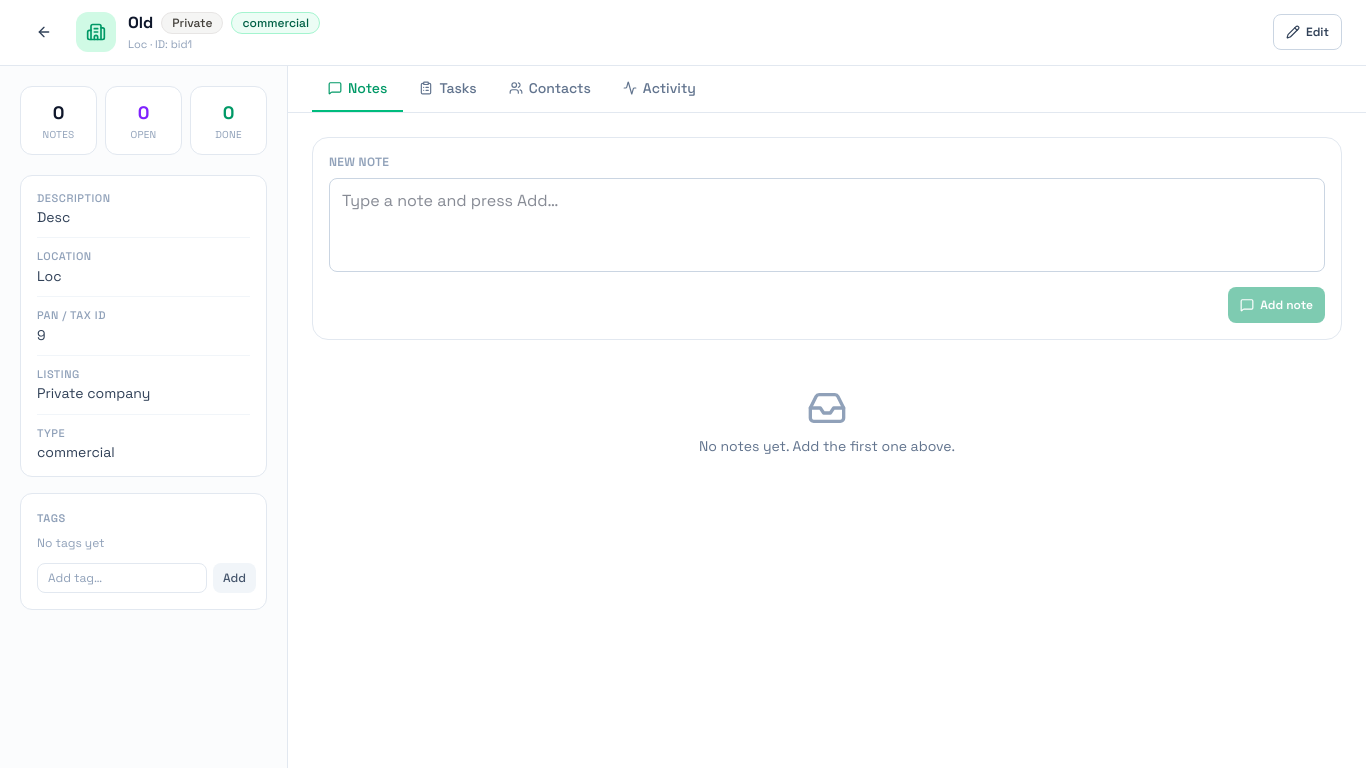
Test case: BusinessDetailPage › save profile sends trimmed profile patch and closes dialog
Click the button "Edit" at (1308,32), box [1273,14,1342,50]
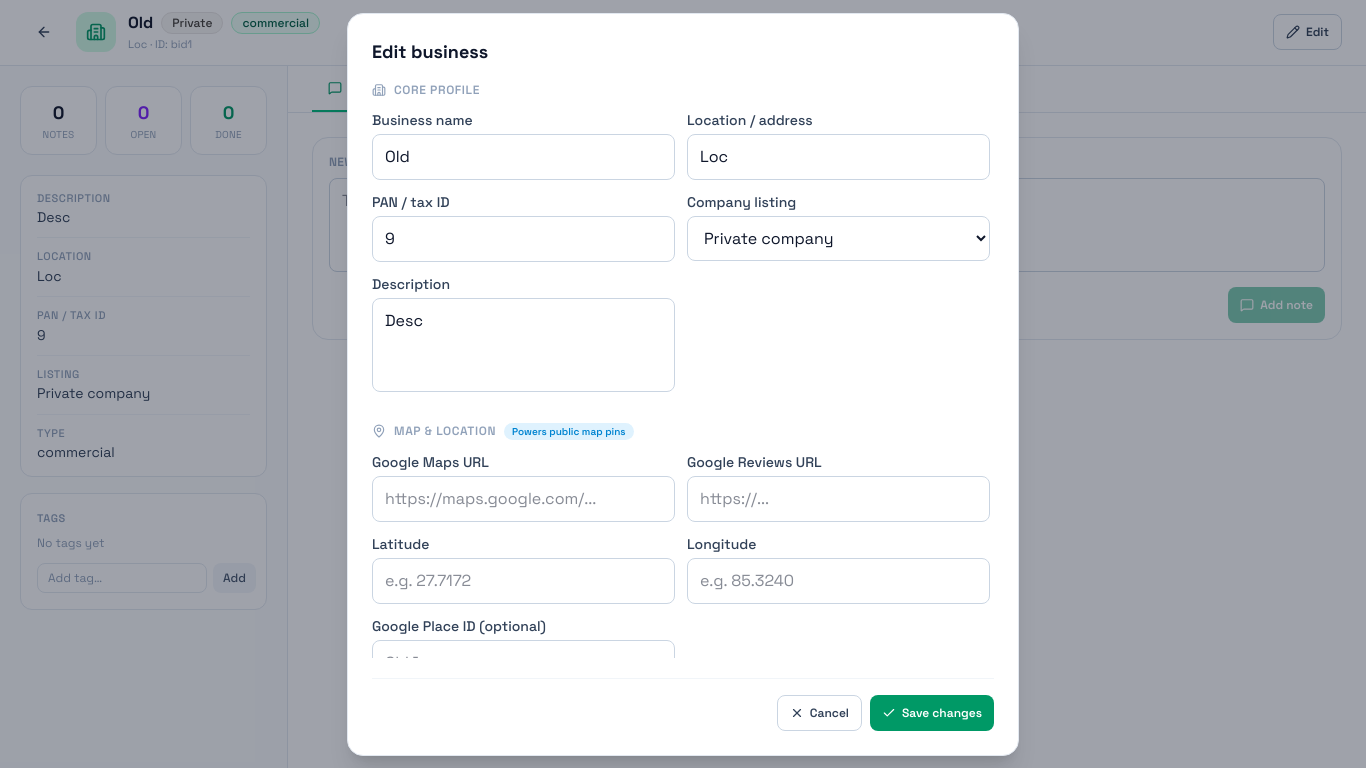
Replace the text in the field labelled "Business name" with "New" at (524,156), box [372,134,675,180]
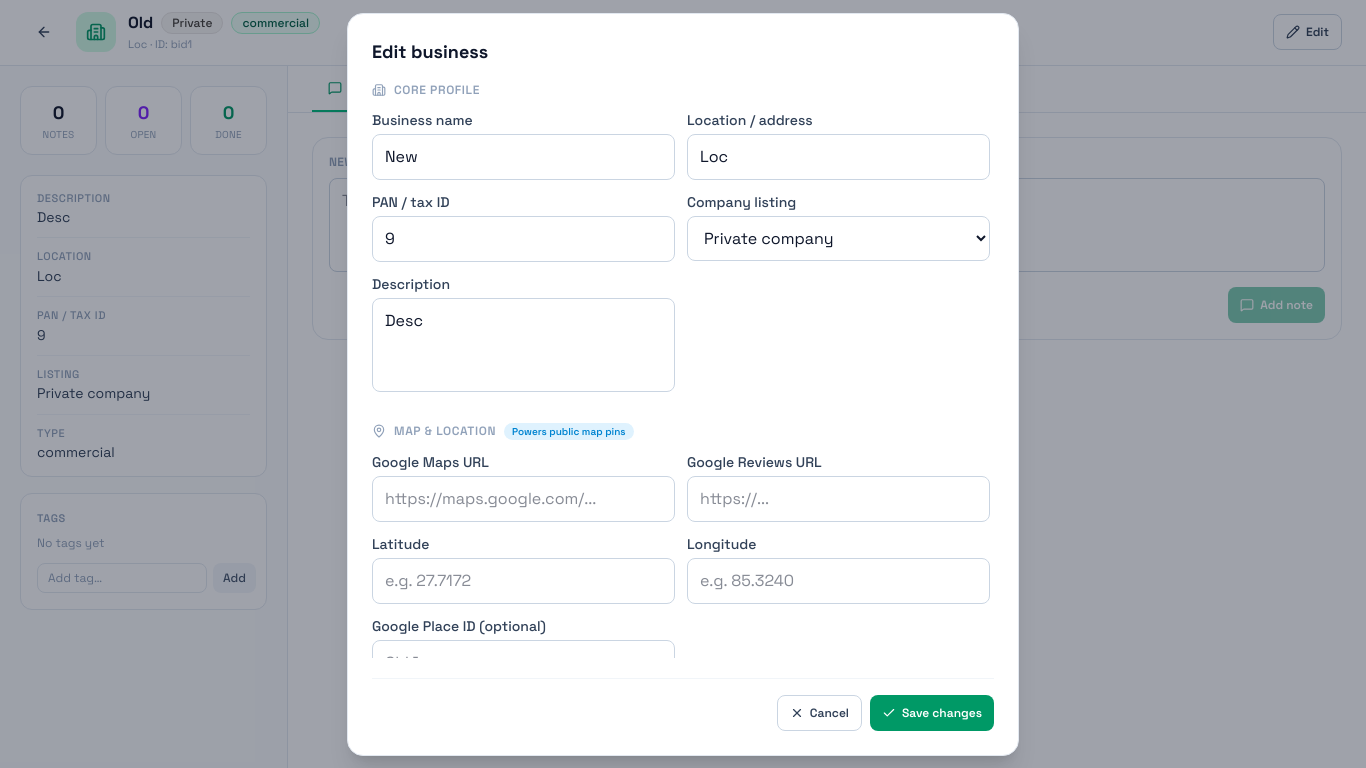
Replace the text in the field labelled "Location / address" with "L2" at (838,156), box [687,134,990,180]
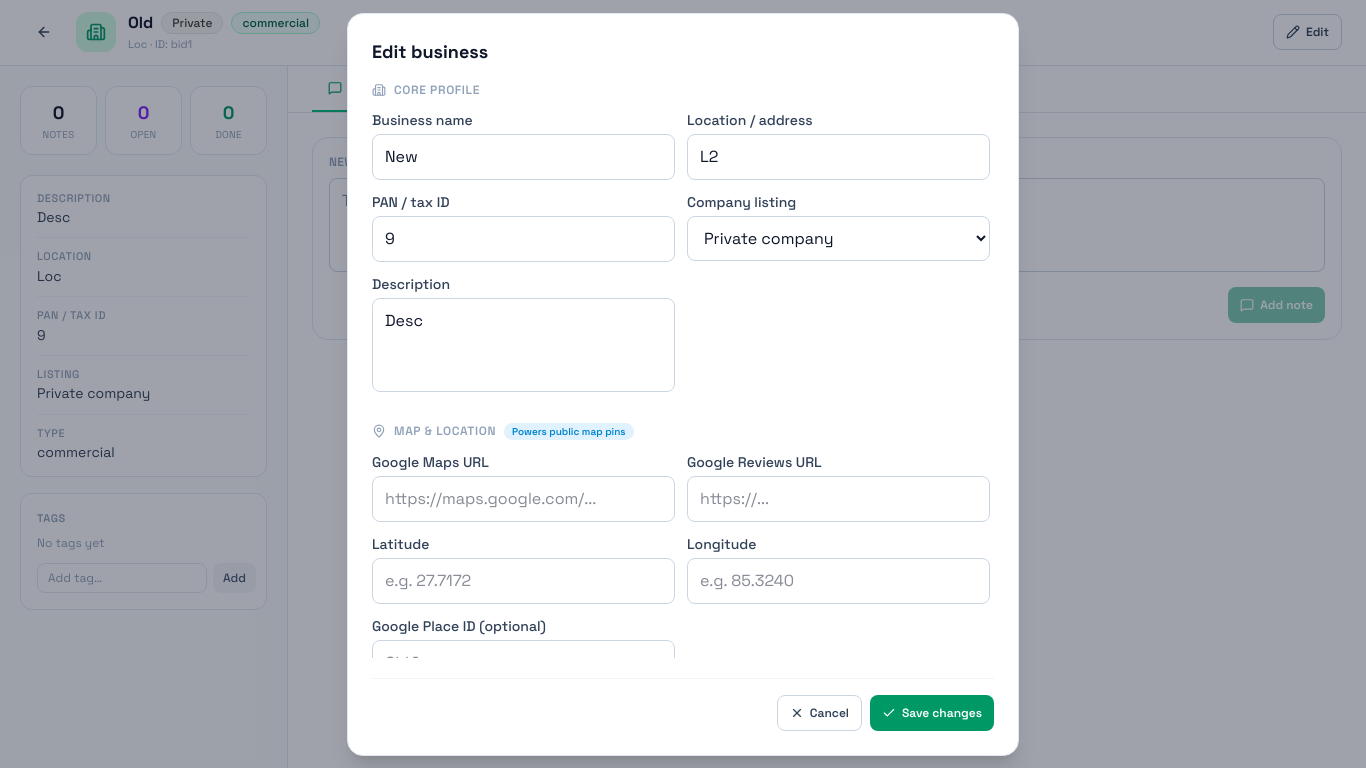
Replace the text in the field with id "edit-pan" with "99" at (524,238), box [372,216,675,262]
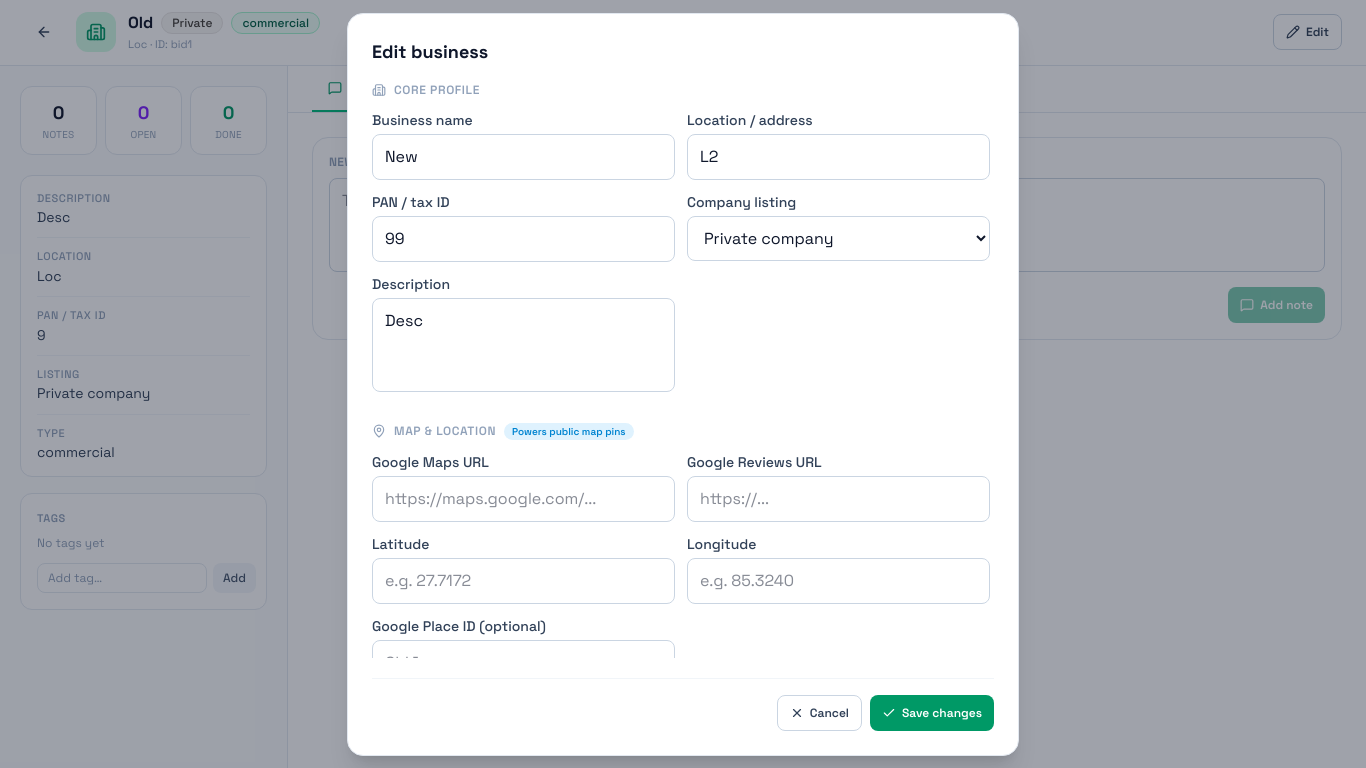
Replace the text in the text box labelled "Description" with "D2" at (524,344), box [372,298,675,392]
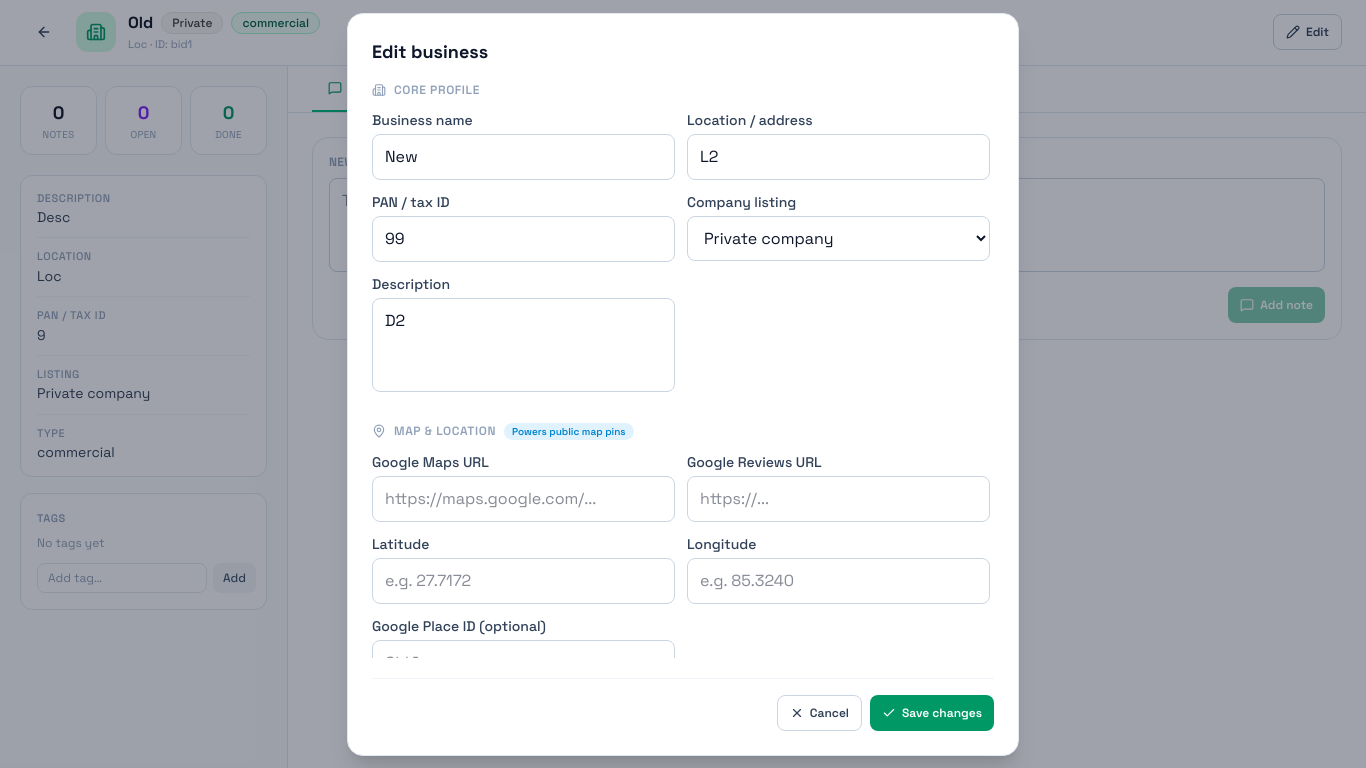
Click the button "Save changes" at (932,712), box [870,694,994,730]
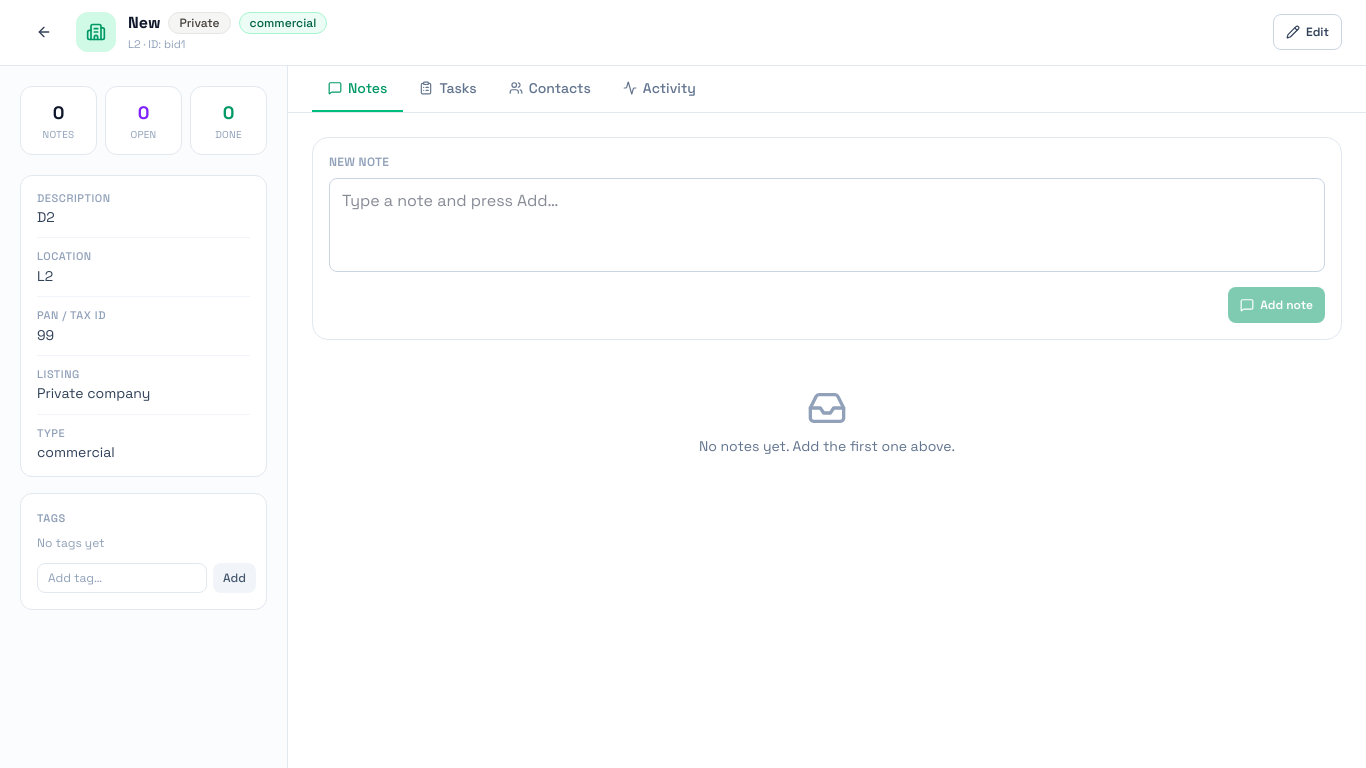
Expected: the dialog is gone
